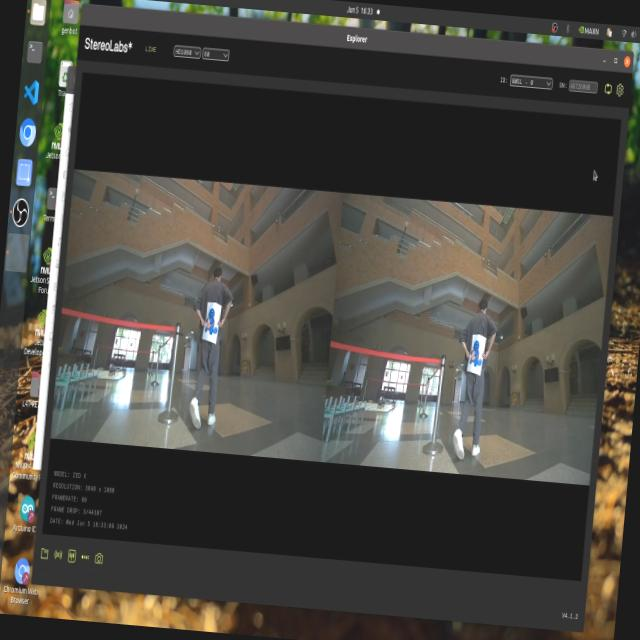blue: (200, 307, 224, 342), (464, 338, 485, 376)
